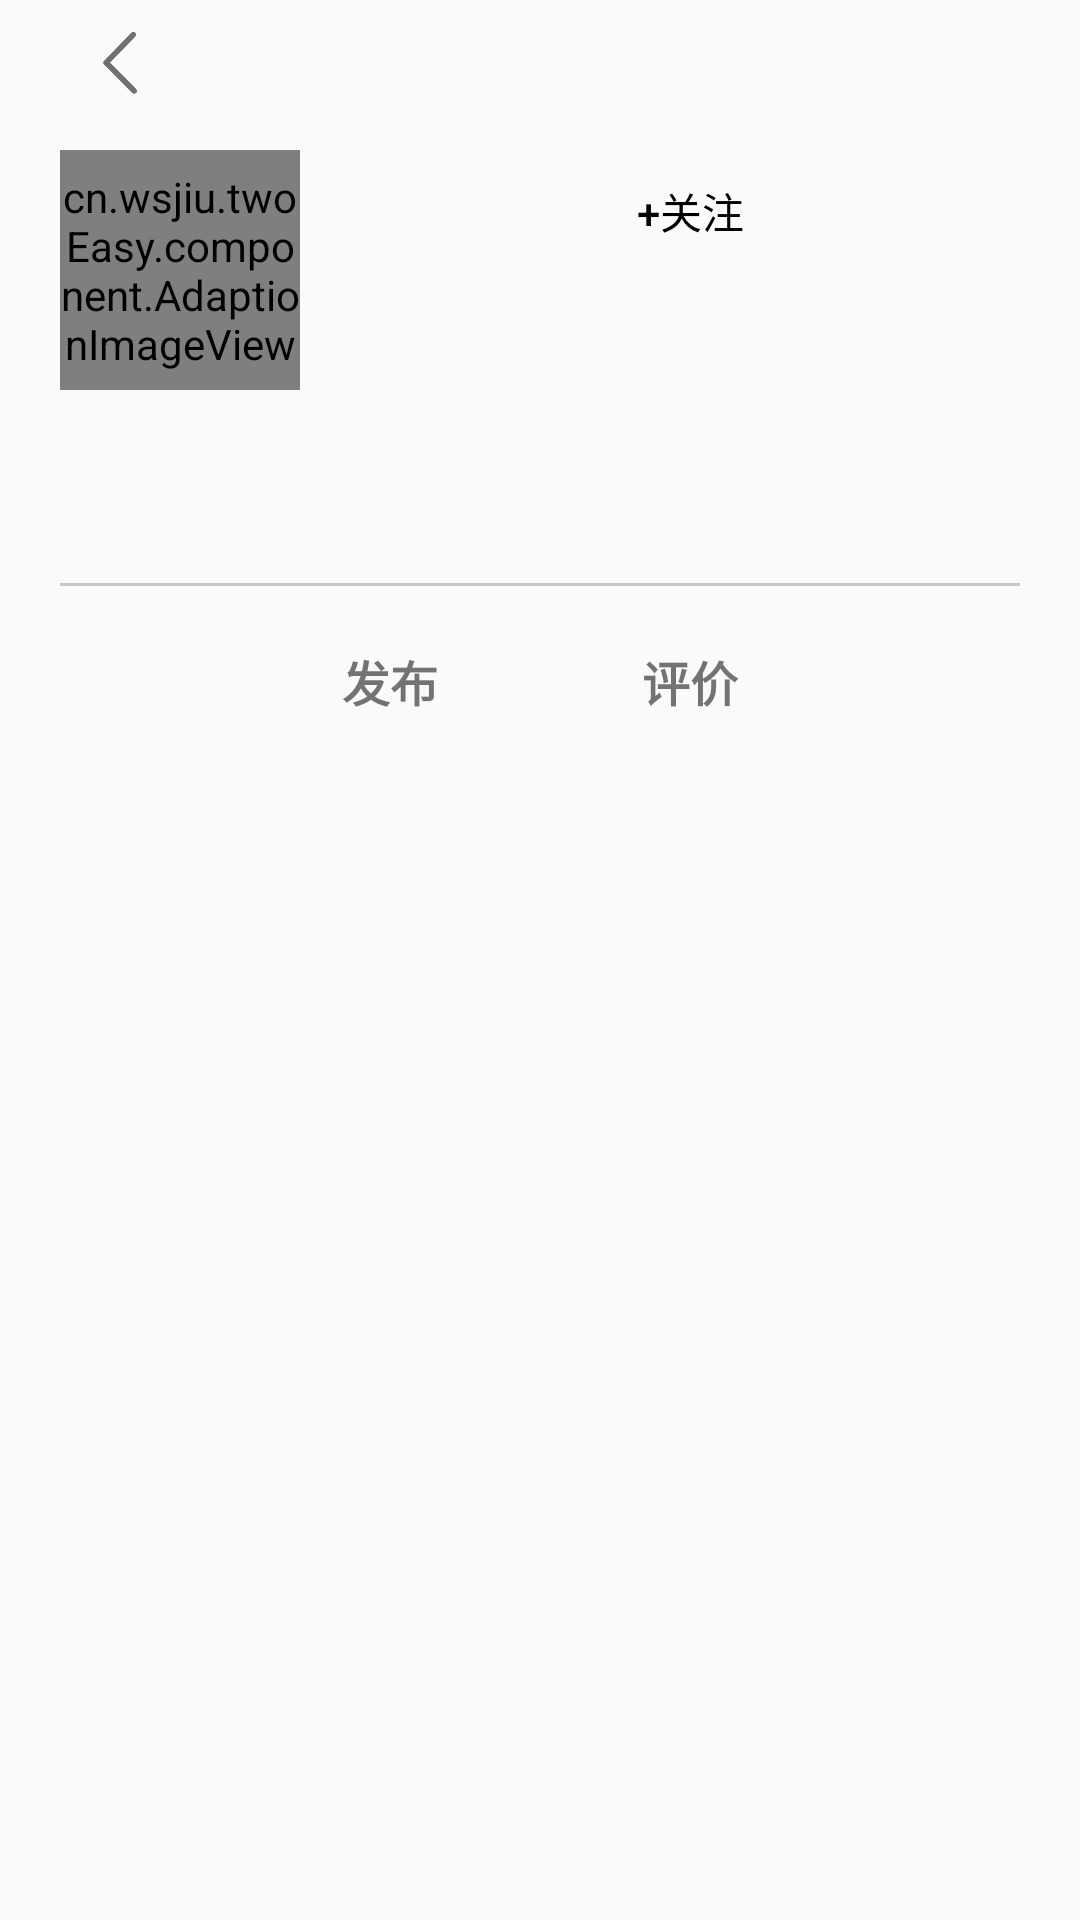

Named icons in this screenshot (1080px x 1920px) and their centers, (x,y):
arrow: (120,63)
